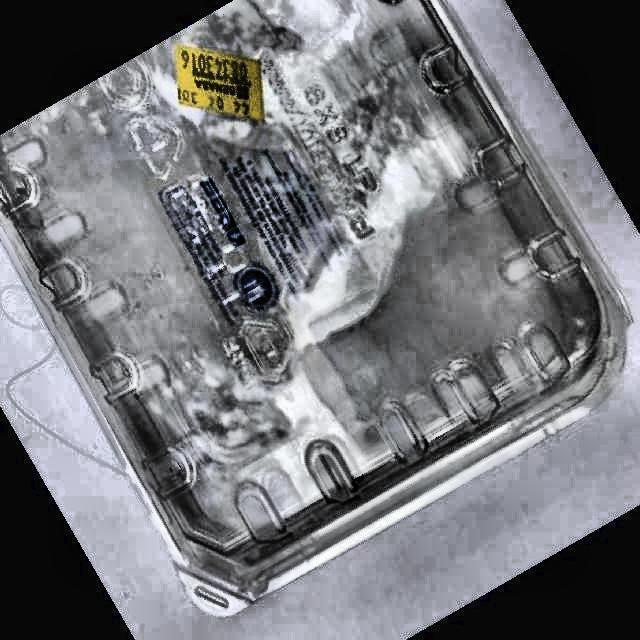plastic: (0, 1, 629, 614)
